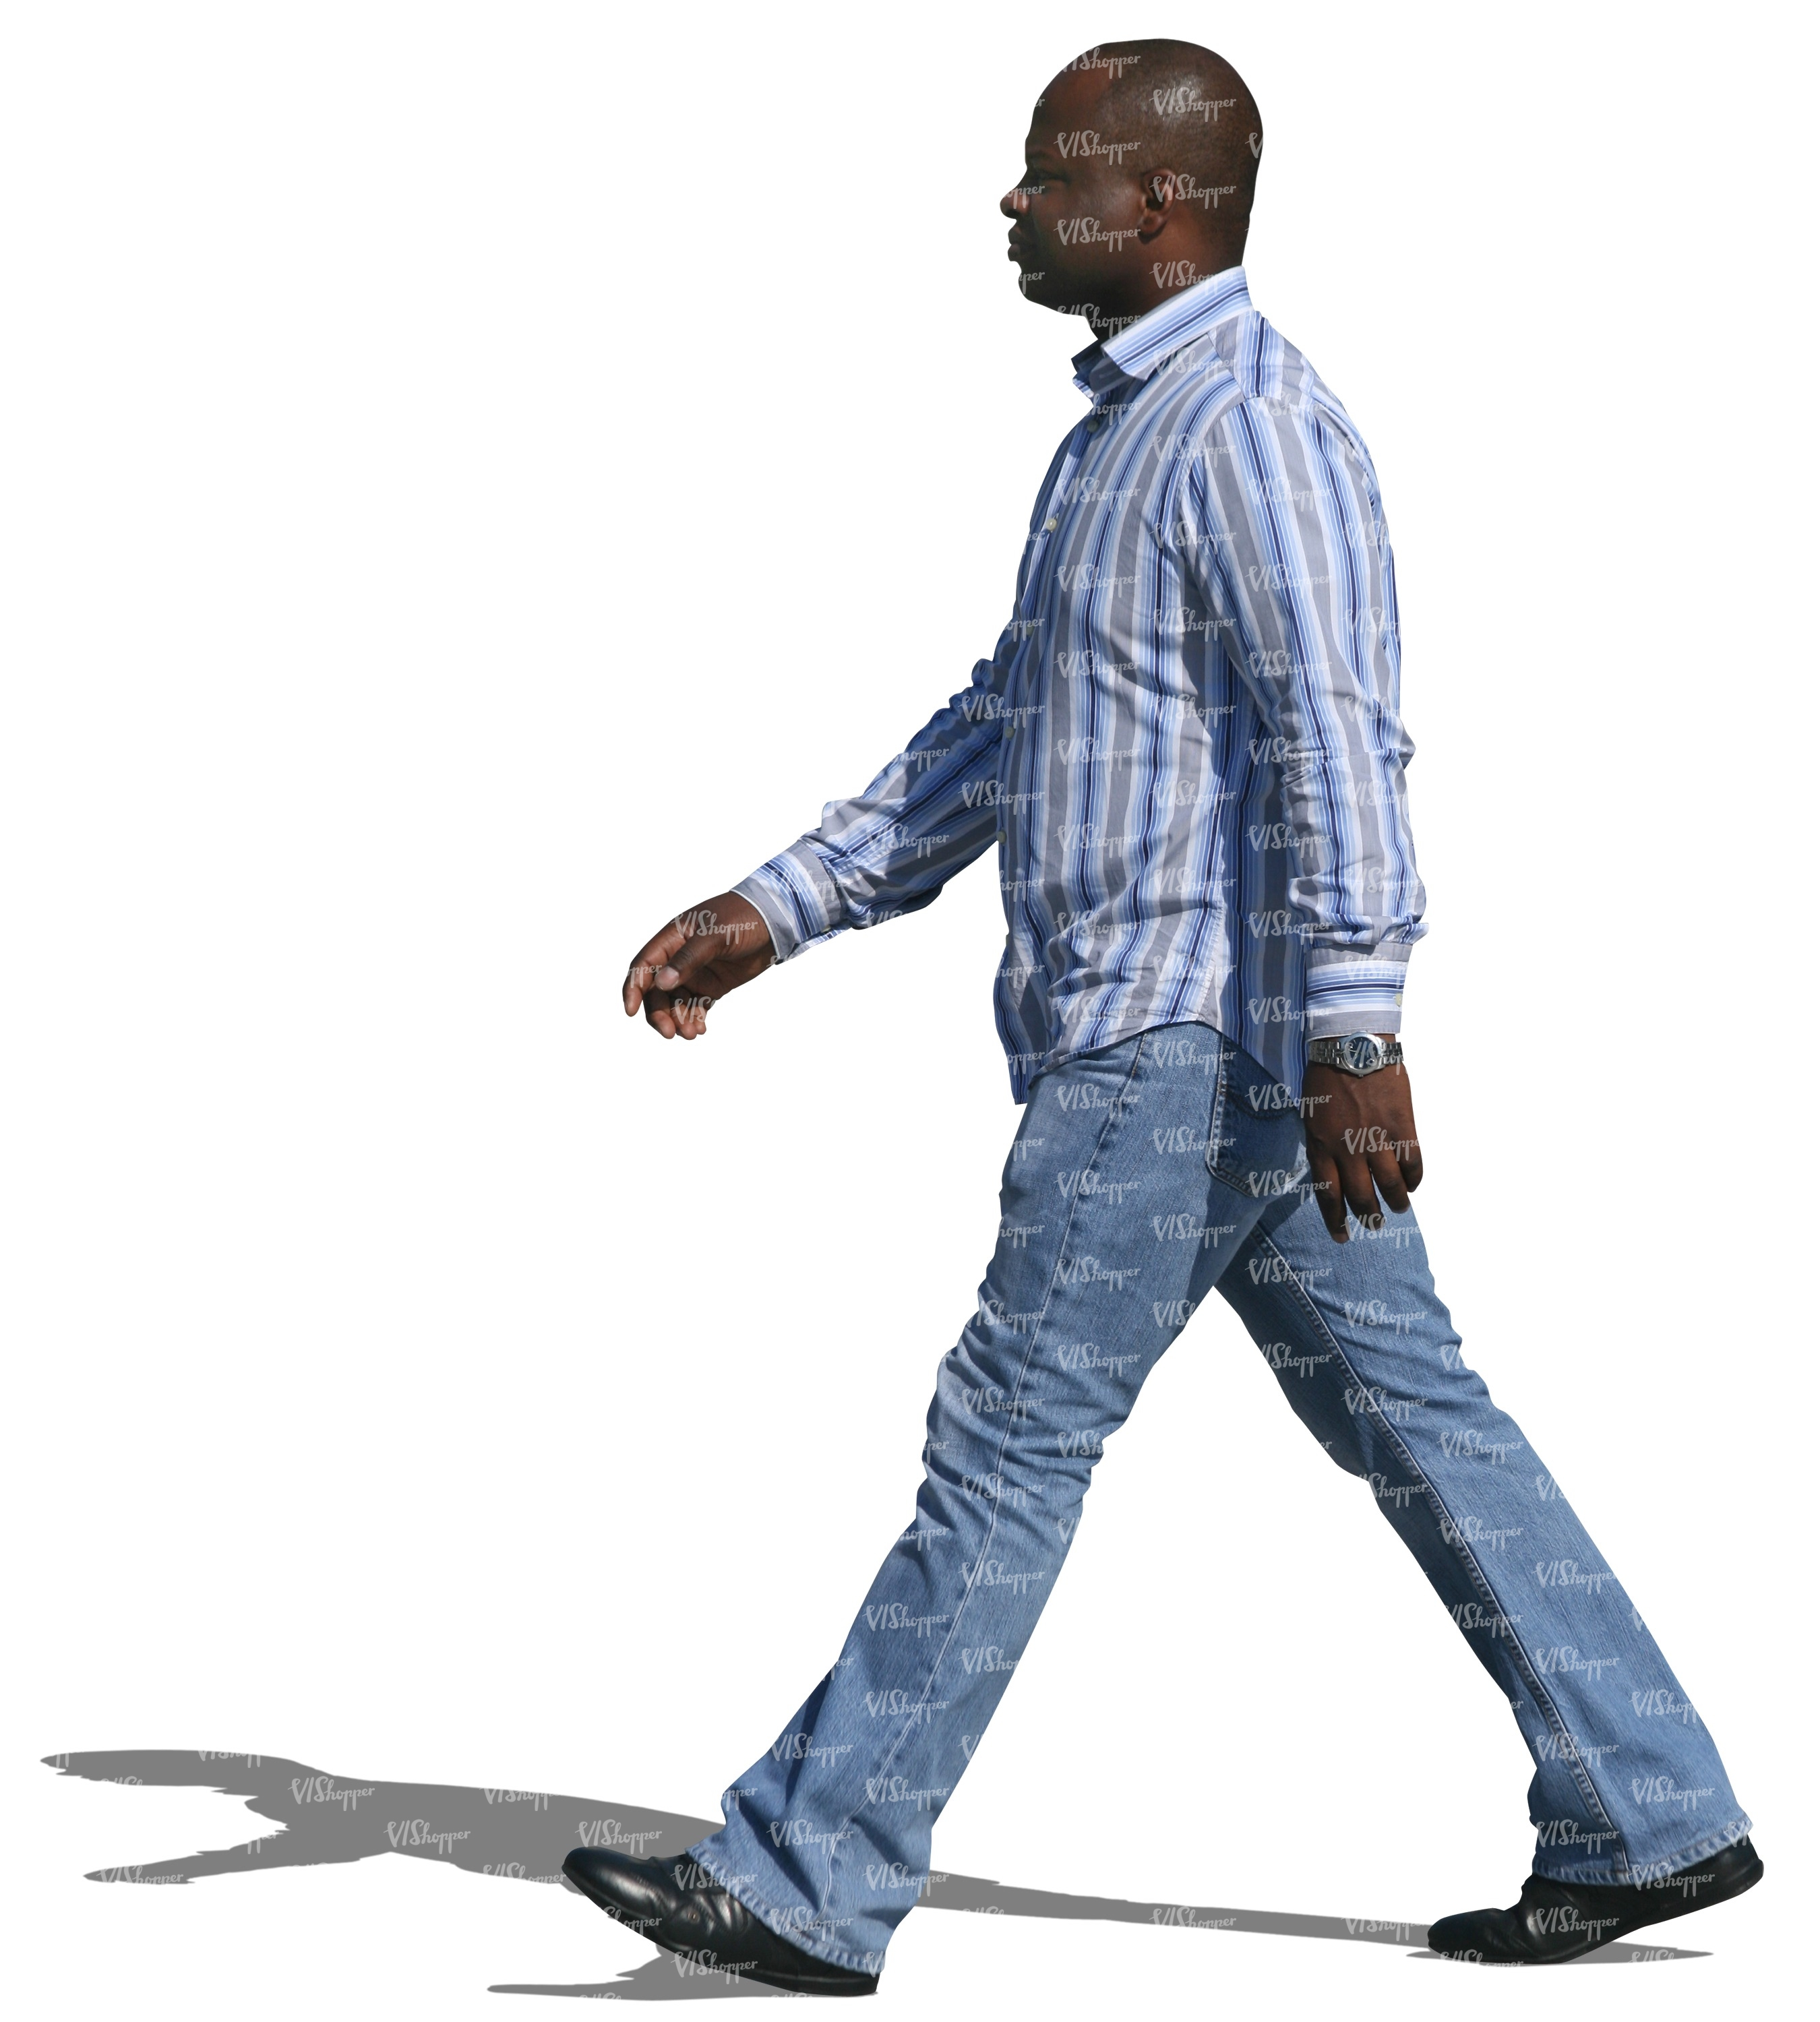NOTSAFE: (991, 21, 1400, 1107)
